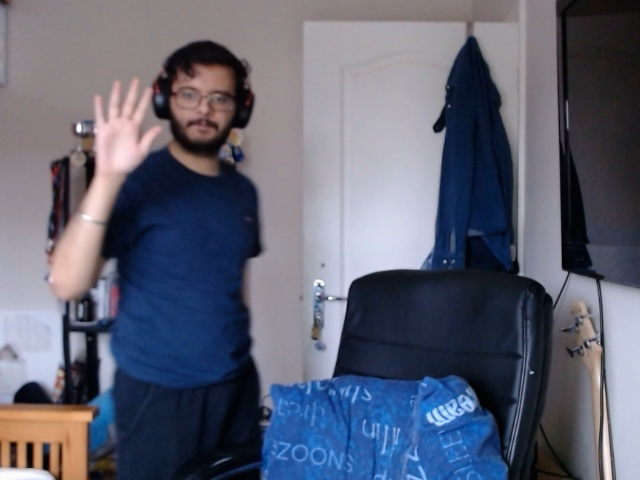Hello: (81, 76, 165, 173)
